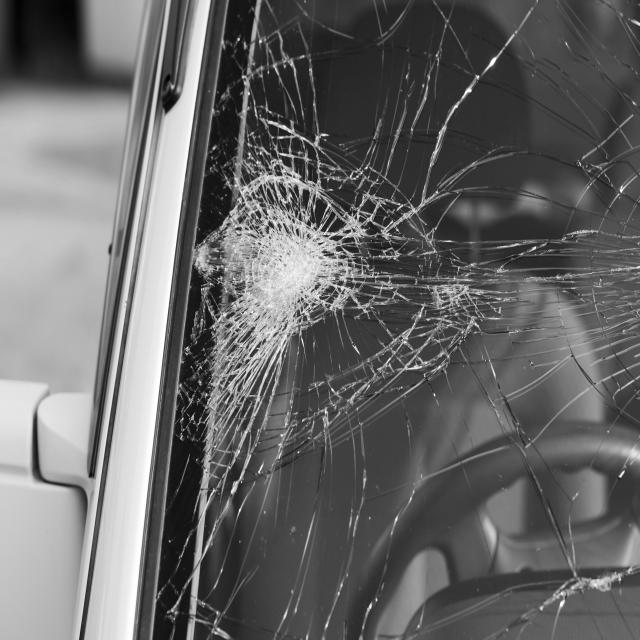crack: (139, 0, 640, 640)
